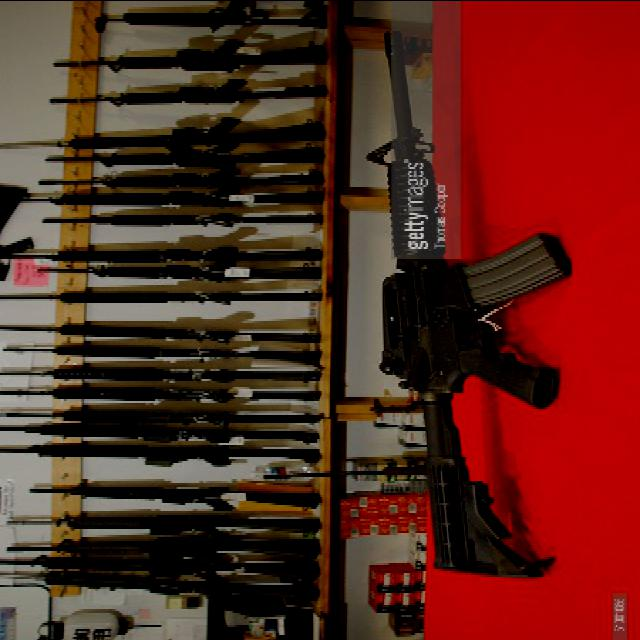long weapon: (364, 18, 568, 606)
